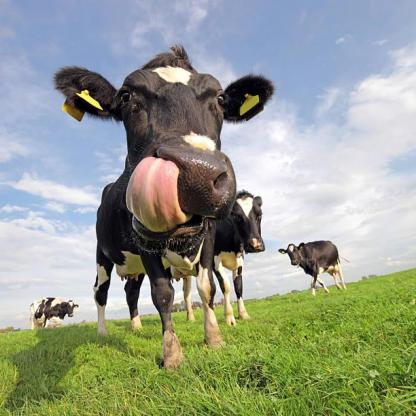cow: (54, 62, 274, 369), (183, 193, 264, 325), (279, 240, 347, 294), (29, 298, 78, 327)
